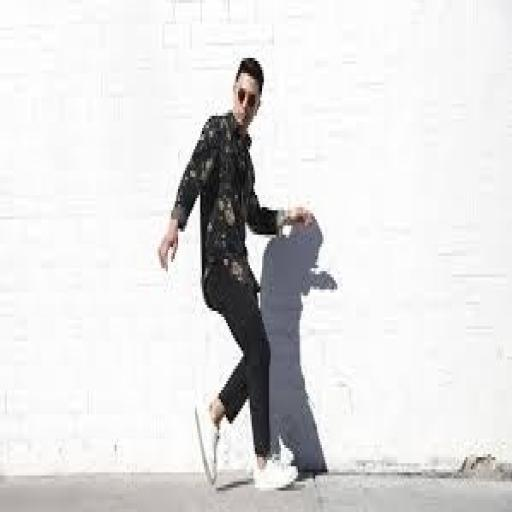dancing: (156, 52, 312, 494)
